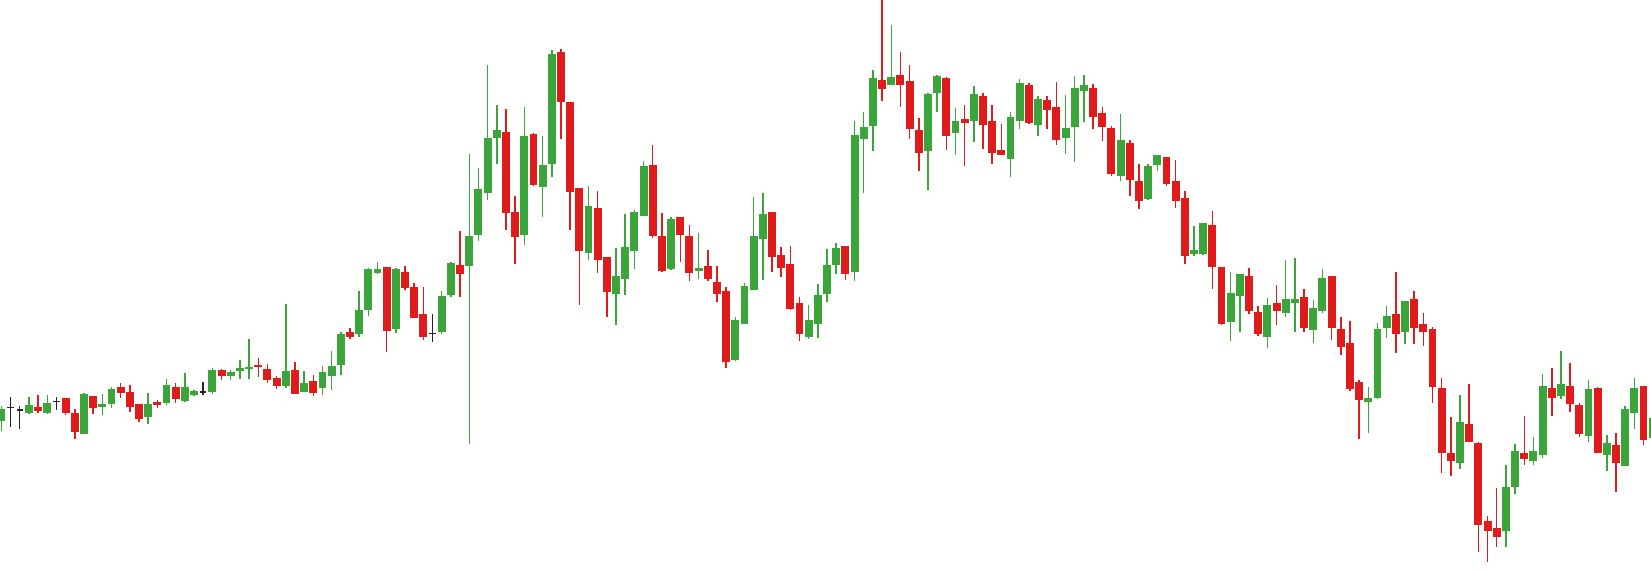sell: (585, 138, 660, 260), (1246, 247, 1309, 338)
